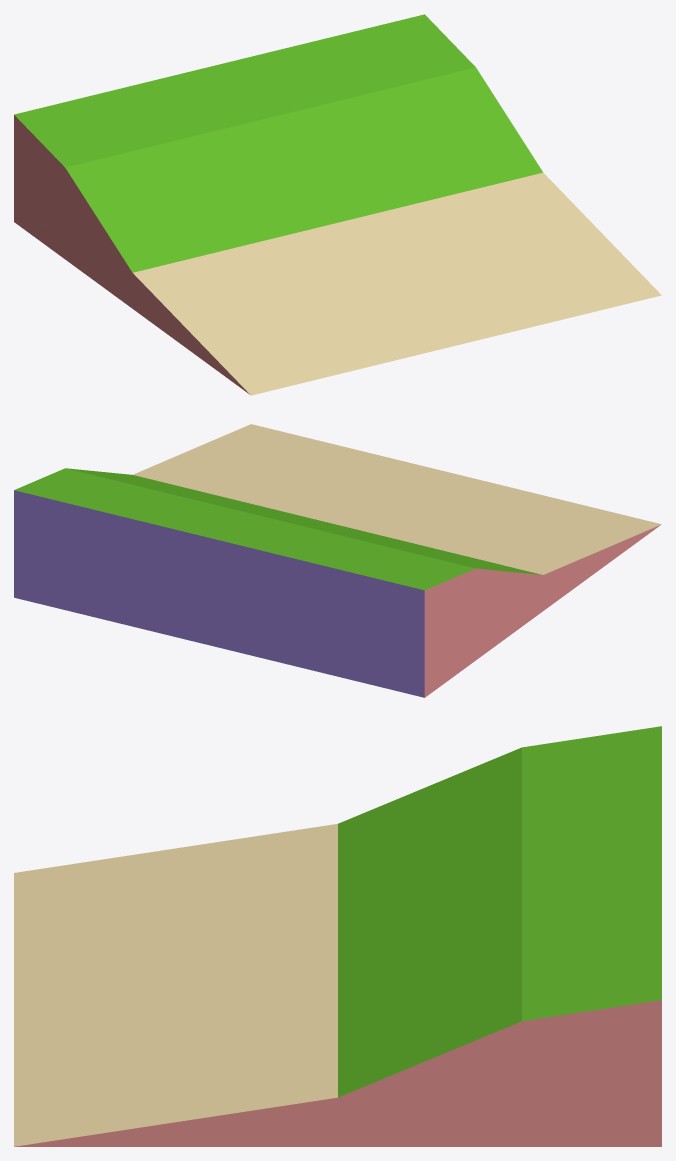
The model's file is Path_Terrain_Basic_Straight_1x1.glb.
The picture shows the model from 3 angles, top to bottom: view 1: azimuth 30°, elevation 25°; view 2: azimuth 150°, elevation 25°; view 3: azimuth 270°, elevation 25°; orthographic projection. The views are drawn at different scales.
Visible parts, largest first — view 1: Path_Terrain_Basic_Straight_1x1; view 2: Path_Terrain_Basic_Straight_1x1; view 3: Path_Terrain_Basic_Straight_1x1.
Boxes of the visible parts, x1,y1,x2,y2 form: Path_Terrain_Basic_Straight_1x1: [14, 14, 661, 395]; Path_Terrain_Basic_Straight_1x1: [14, 424, 661, 697]; Path_Terrain_Basic_Straight_1x1: [14, 726, 661, 1146].
Size of the model in its own units: 100 by 25 by 100.
